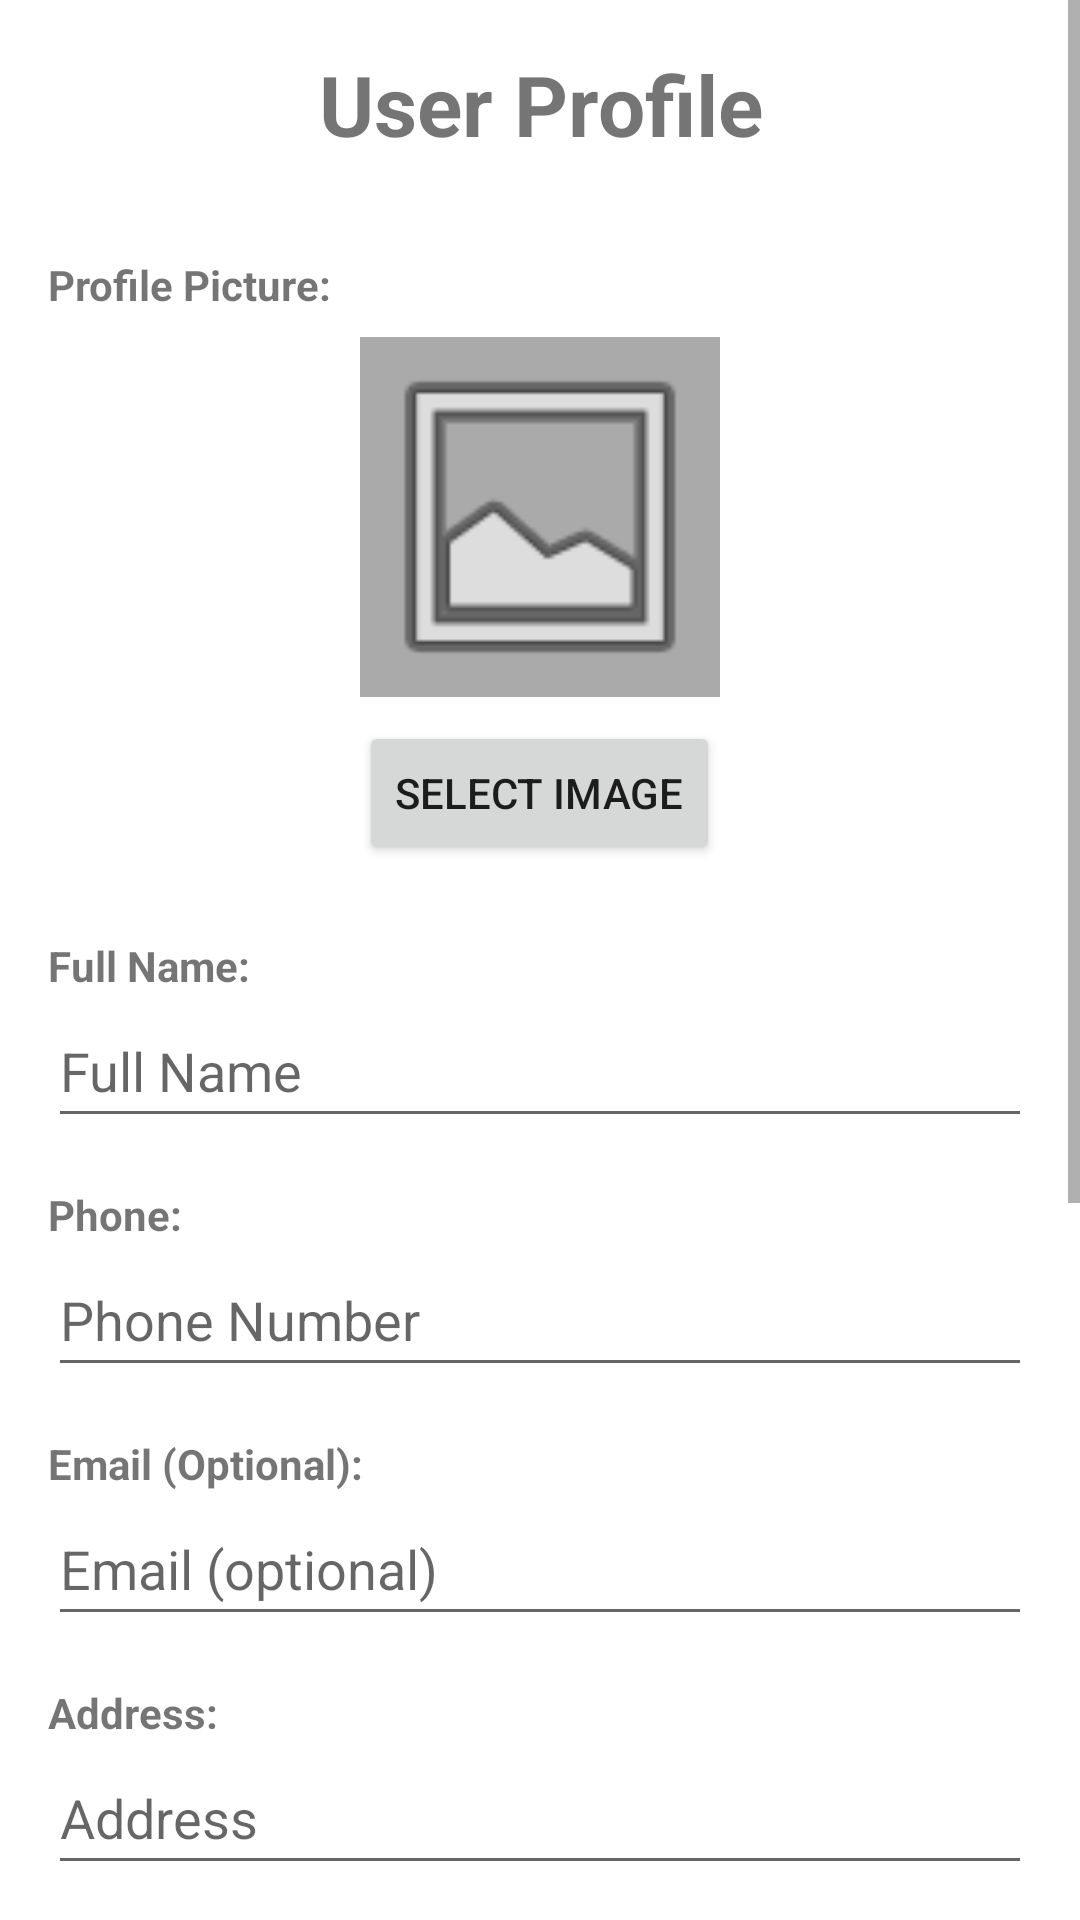

Icon bounding boxes for this 1080*1920 phone screenshot, format (x1, y1, x2, y2):
gallery: (360, 337, 720, 697)
